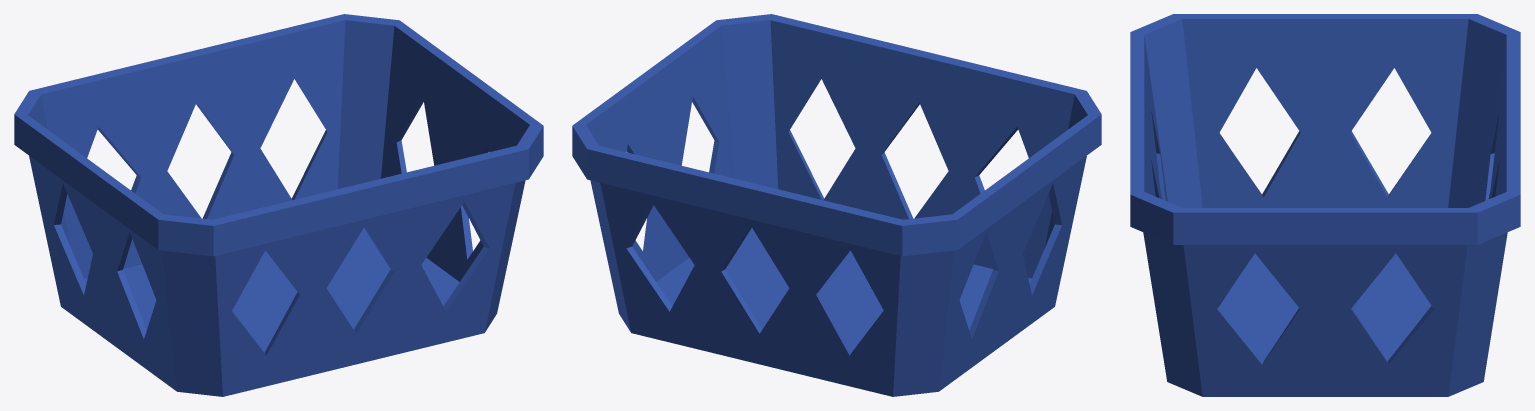
The model's file is SM_Cook_Basket_Blue_01.glb.
3 renders of one model, left to right at view 1: azimuth 30°, elevation 25°; view 2: azimuth 150°, elevation 25°; view 3: azimuth 270°, elevation 25°, orthographic. The views are drawn at different scales.
Visible parts, largest first — view 1: SM_Cook_Basket_Blue_01; view 2: SM_Cook_Basket_Blue_01; view 3: SM_Cook_Basket_Blue_01.
Boxes of the visible parts, bbox=[...] form: SM_Cook_Basket_Blue_01: bbox=[14, 14, 543, 396]; SM_Cook_Basket_Blue_01: bbox=[572, 14, 1101, 396]; SM_Cook_Basket_Blue_01: bbox=[1130, 14, 1520, 396].
Bounding box in the file's own units: 0.318 × 0.15 × 0.2638.
1 material, 1 textured.
